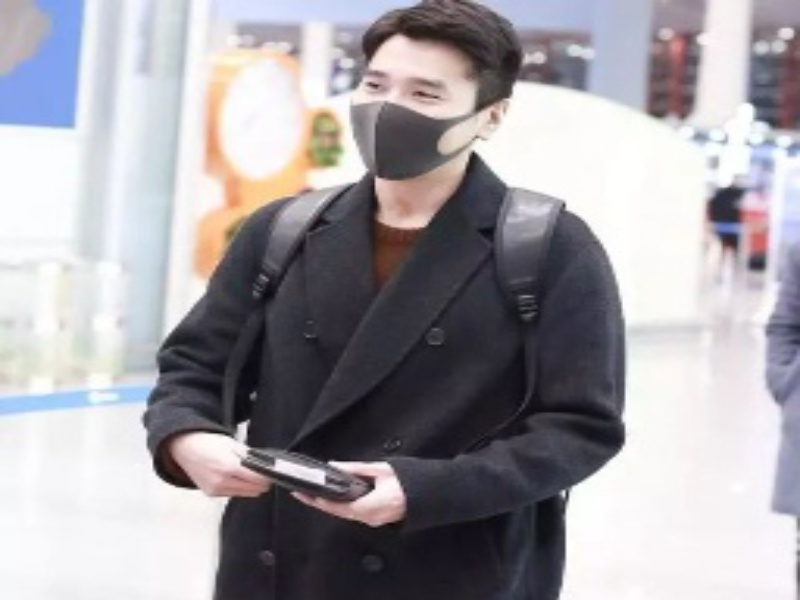ManaoArotava: (334, 1, 510, 211)
